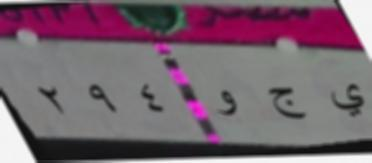2: (35, 80, 68, 124)
4: (134, 78, 170, 123)
9: (85, 78, 121, 118)
jeem: (262, 82, 310, 126)
waw: (212, 82, 238, 126)
yaa: (328, 80, 370, 123)
